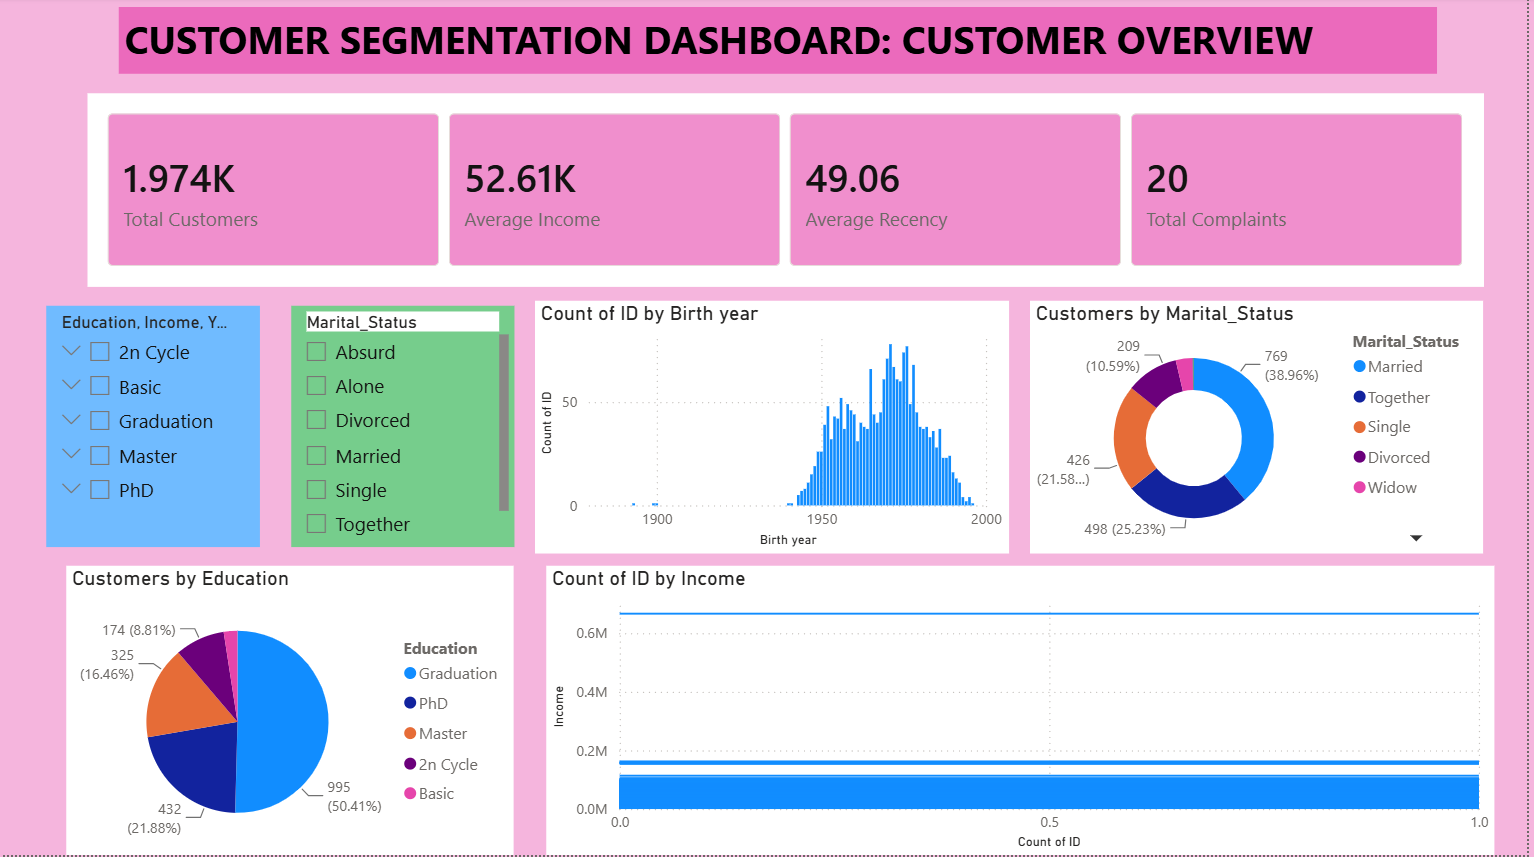

What the dashboard file says about the page in this screenshot:
{"tool":"powerbi","page":{"name":"Page 1","canvas":[1280,720],"ordinal":0},"visuals":[{"type":"cardVisual","fields":{"Data":["CountNonNull(marketing_campaign.ID)","Avg(marketing_campaign.Income)","Avg(marketing_campaign.Recency)","Sum(marketing_campaign.Complain)"]},"box":[73.3,80.2,1170.9,162.8],"z":0},{"type":"pieChart","fields":{"Category":["marketing_campaign.Education"],"Y":["CountNonNull(marketing_campaign.ID)"]},"box":[55.8,476.7,375.6,243],"z":1000},{"type":"donutChart","fields":{"Category":["marketing_campaign.Marital_Status"],"Y":["CountNonNull(marketing_campaign.ID)"]},"box":[864,254.7,380.2,211.6],"z":2000},{"type":"clusteredColumnChart","fields":{"Category":["marketing_campaign.Year_Birth"],"Y":["CountNonNull(marketing_campaign.ID)"]},"box":[448.8,254.7,397.7,211.6],"z":3000},{"type":"barChart","fields":{"Category":["marketing_campaign.Income"],"Y":["CountNonNull(marketing_campaign.ID)"]},"box":[458.1,476.7,795.4,243],"z":4000},{"type":"slicer","fields":{"Values":["marketing_campaign.Education","marketing_campaign.Income","marketing_campaign.Year_Birth"]},"box":[38.4,259.3,179.1,202.3],"z":5000},{"type":"textbox","box":[100,8.1,1105.8,55.8],"z":6000},{"type":"slicer","fields":{"Values":["marketing_campaign.Marital_Status"]},"box":[244.2,259.3,187.2,202.3],"z":7000}]}

Visuals, with their boxes in screenshot pixels (x1, y1, x2, y2), scaled from the page's 1280x720 canvas onto the 1534x857 screenshot:
cardVisual - CountNonNull(marketing_campaign.ID) x Avg(marketing_campaign.Income): {"x1": 88, "y1": 95, "x2": 1491, "y2": 289}
pieChart - marketing_campaign.Education x CountNonNull(marketing_campaign.ID): {"x1": 67, "y1": 567, "x2": 517, "y2": 856}
donutChart - marketing_campaign.Marital_Status x CountNonNull(marketing_campaign.ID): {"x1": 1035, "y1": 303, "x2": 1491, "y2": 555}
clusteredColumnChart - marketing_campaign.Year_Birth x CountNonNull(marketing_campaign.ID): {"x1": 538, "y1": 303, "x2": 1014, "y2": 555}
barChart - marketing_campaign.Income x CountNonNull(marketing_campaign.ID): {"x1": 549, "y1": 567, "x2": 1502, "y2": 856}
slicer - marketing_campaign.Education x marketing_campaign.Income: {"x1": 46, "y1": 309, "x2": 261, "y2": 549}
textbox: {"x1": 120, "y1": 10, "x2": 1445, "y2": 76}
slicer - marketing_campaign.Marital_Status: {"x1": 293, "y1": 309, "x2": 517, "y2": 549}
